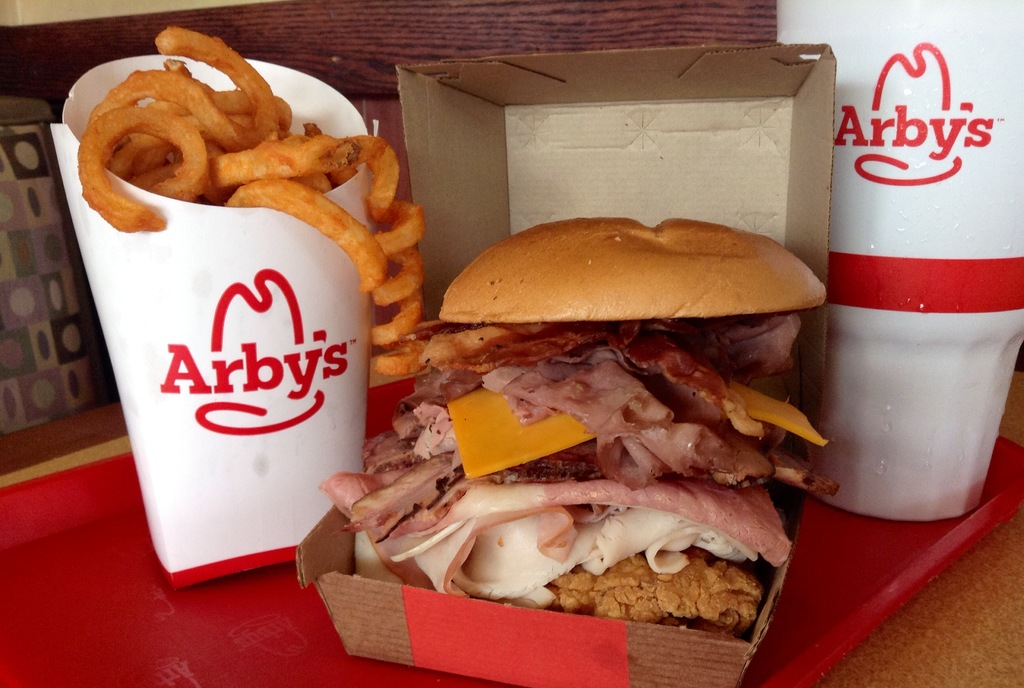French fries: (88, 33, 343, 197)
